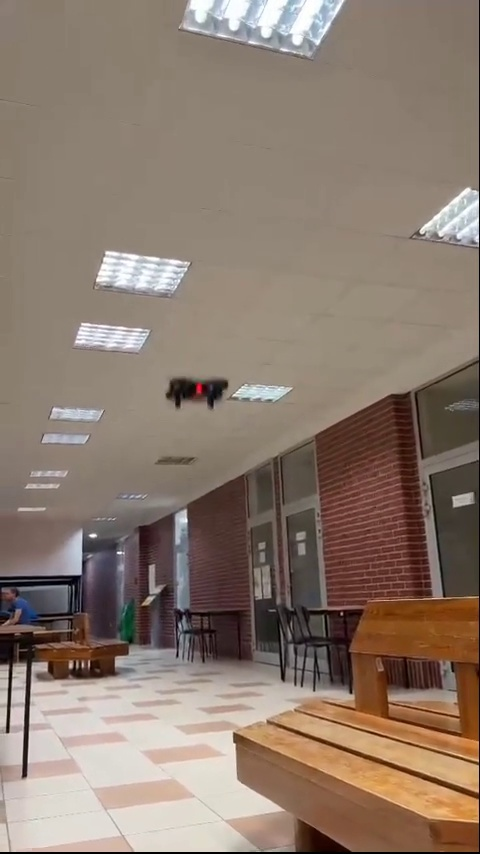drone: (162, 373, 229, 410)
no vest: (3, 583, 36, 630)
